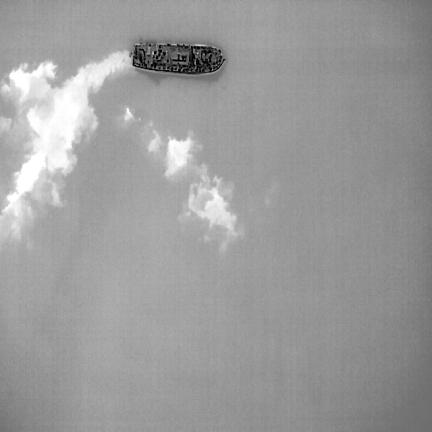flukeprints: (179, 164, 241, 251), (165, 137, 193, 176), (147, 122, 161, 152), (124, 107, 140, 123)
